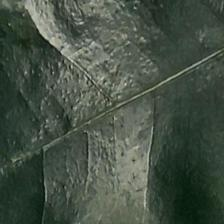healthy: (5, 8, 224, 224)
